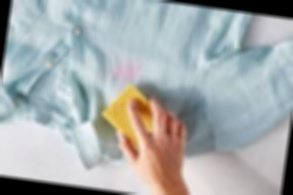lipstick: (111, 63, 147, 87)
